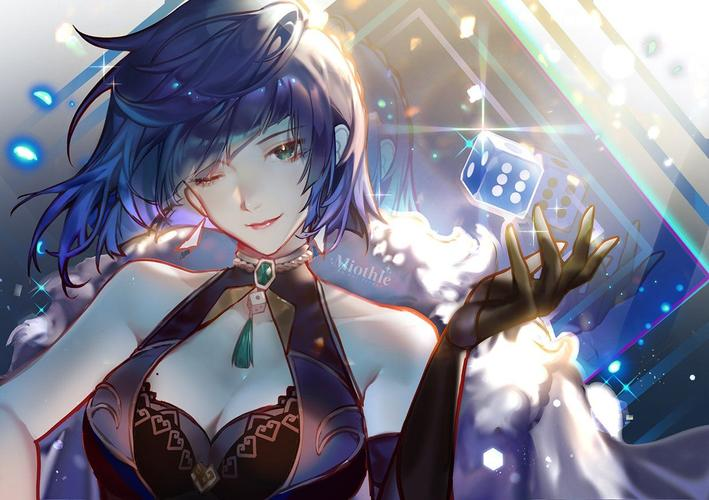夜兰: (1, 3, 621, 495)
